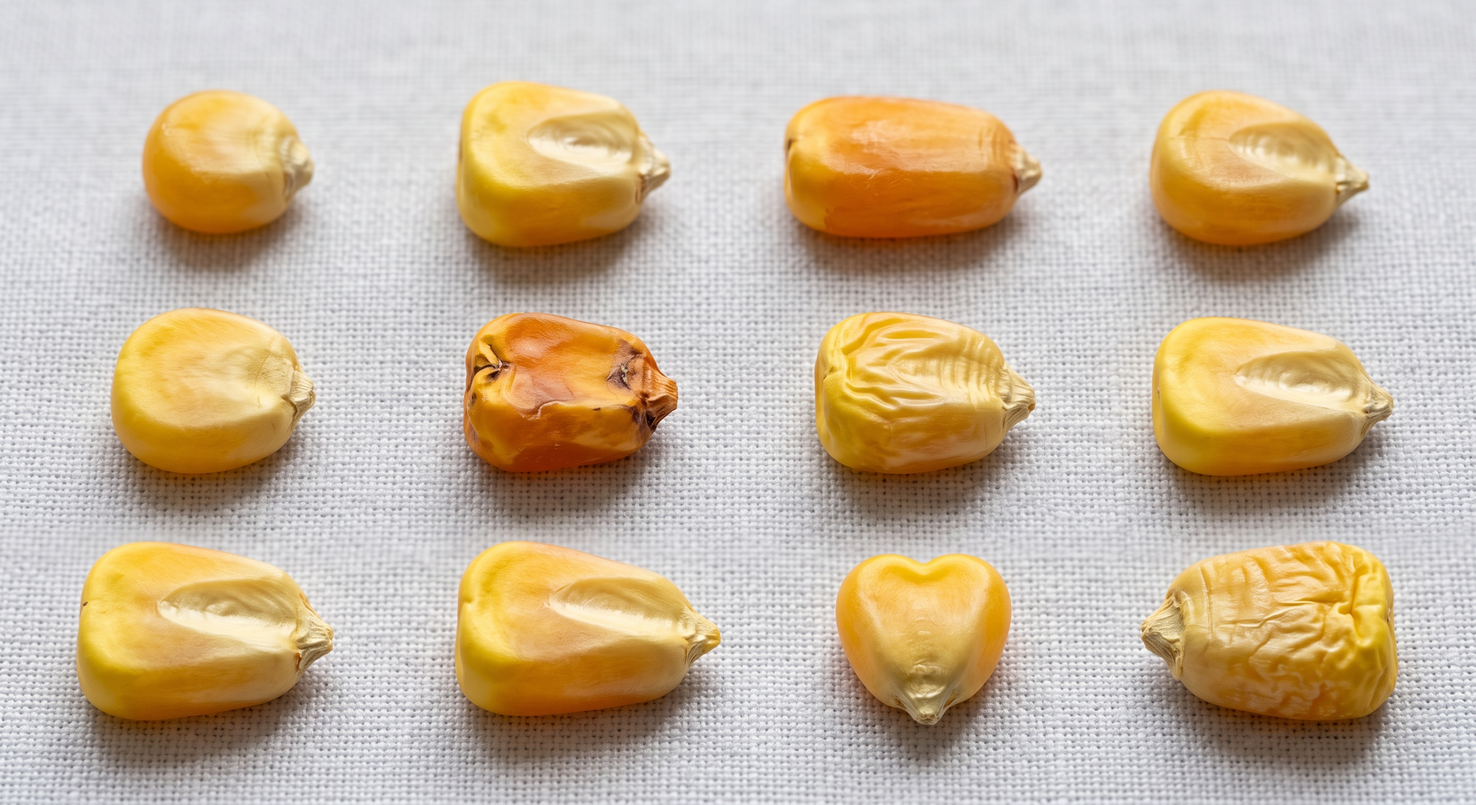grano_maiz: (441, 531, 729, 738), (72, 541, 338, 739), (1141, 539, 1407, 733), (1143, 316, 1408, 499), (830, 547, 1026, 750), (122, 316, 330, 503), (809, 316, 1035, 479), (1142, 90, 1361, 257), (470, 319, 680, 493), (785, 96, 1040, 237), (457, 82, 669, 246), (143, 90, 313, 233)
